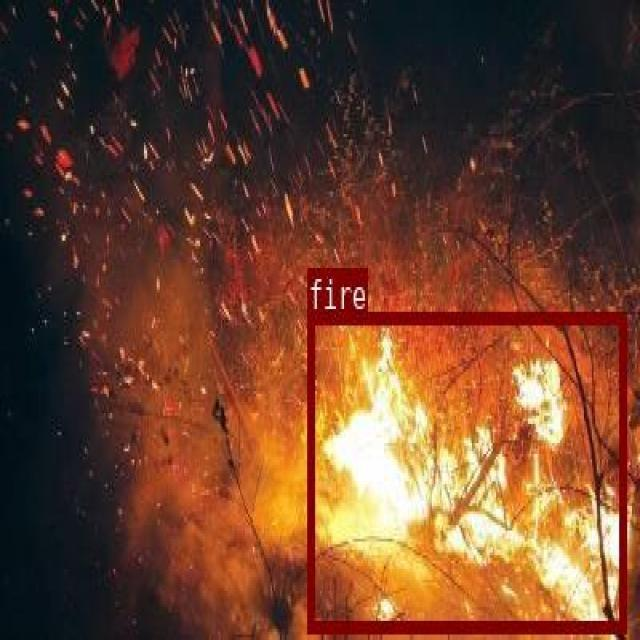fire: (307, 311, 625, 631)
